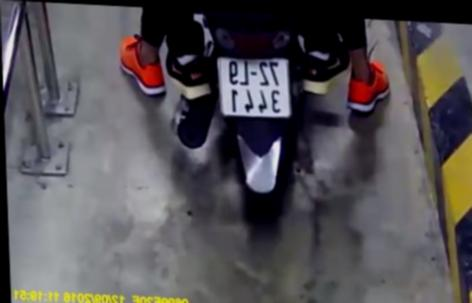License_Plate: (211, 50, 301, 130)
